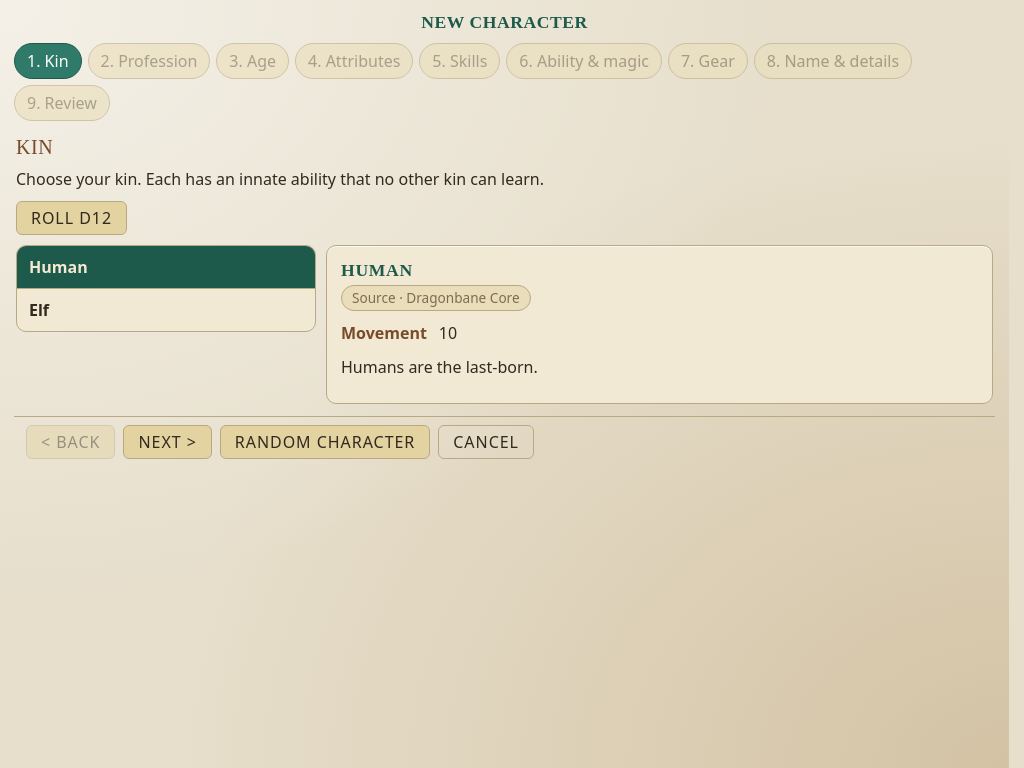
CharacterCreator › shows the data of the chosen option beside the list, like the Reference
The image size is (1024, 768).
Expected: the element with test id "choice-detail" shows "Human", [341,260,413,280]
Expected: the element with test id "choice-detail" shows "Source · Dragonbane Core", [352,288,520,307]
Click the button with test id "choice-row" showing "Elf" at (39,310), box [17,289,315,331]
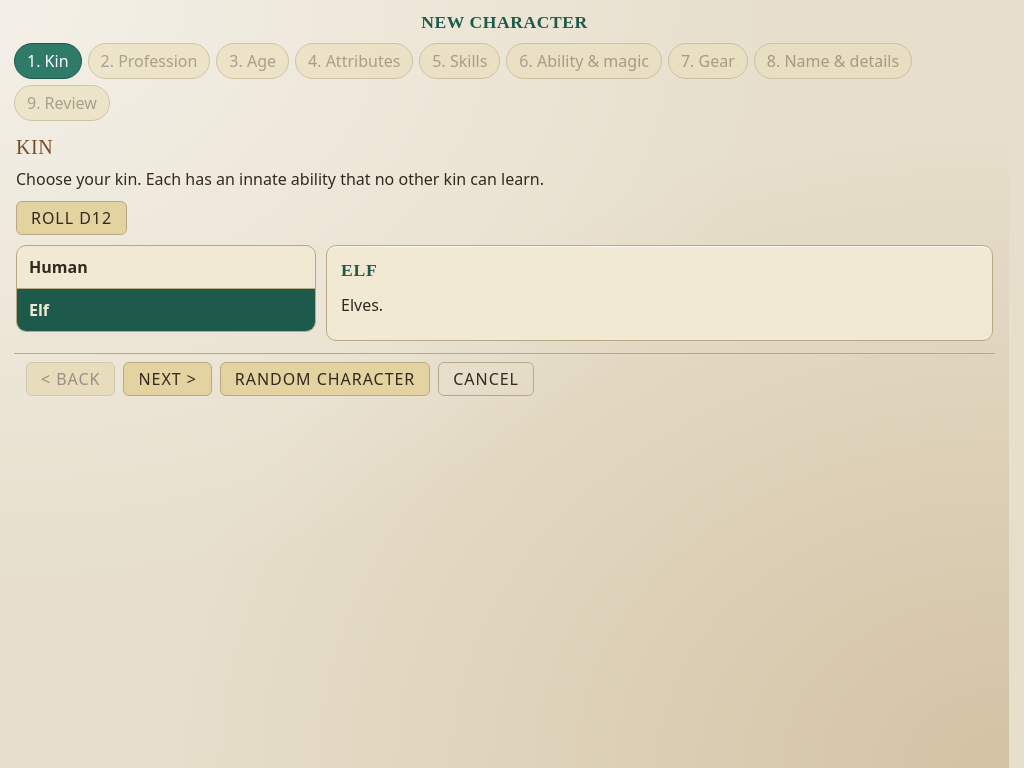
Expected: the element with test id "choice-detail" shows "Elves.", [341,294,383,316]
